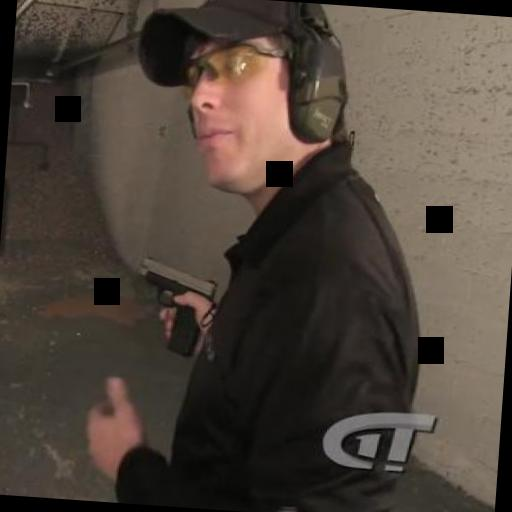Handgun: (128, 254, 218, 358)
